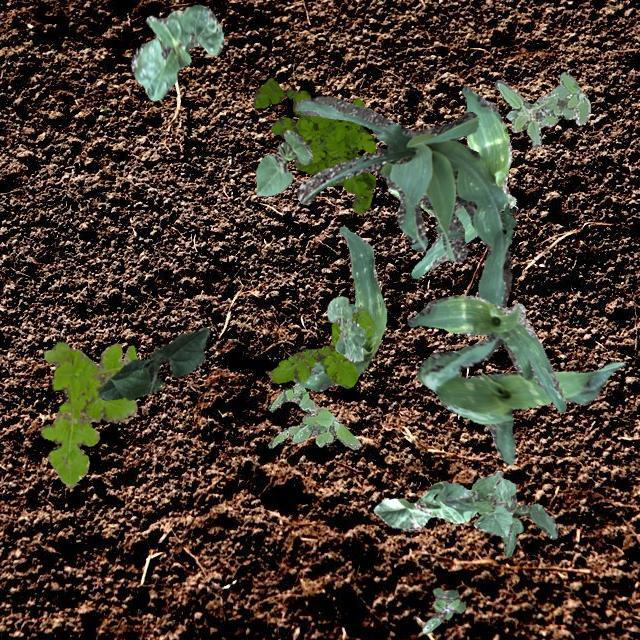crop: (294, 95, 514, 308), (417, 334, 621, 464), (410, 85, 516, 278), (406, 294, 566, 410), (292, 226, 386, 390), (130, 4, 223, 100), (96, 326, 208, 399), (472, 478, 556, 556), (372, 481, 477, 528), (254, 130, 312, 196), (471, 469, 512, 536), (326, 294, 364, 360), (388, 186, 434, 216)
weed: (252, 76, 374, 212), (40, 340, 136, 488), (266, 308, 374, 388), (494, 72, 590, 148), (268, 382, 360, 448), (422, 586, 464, 632)
